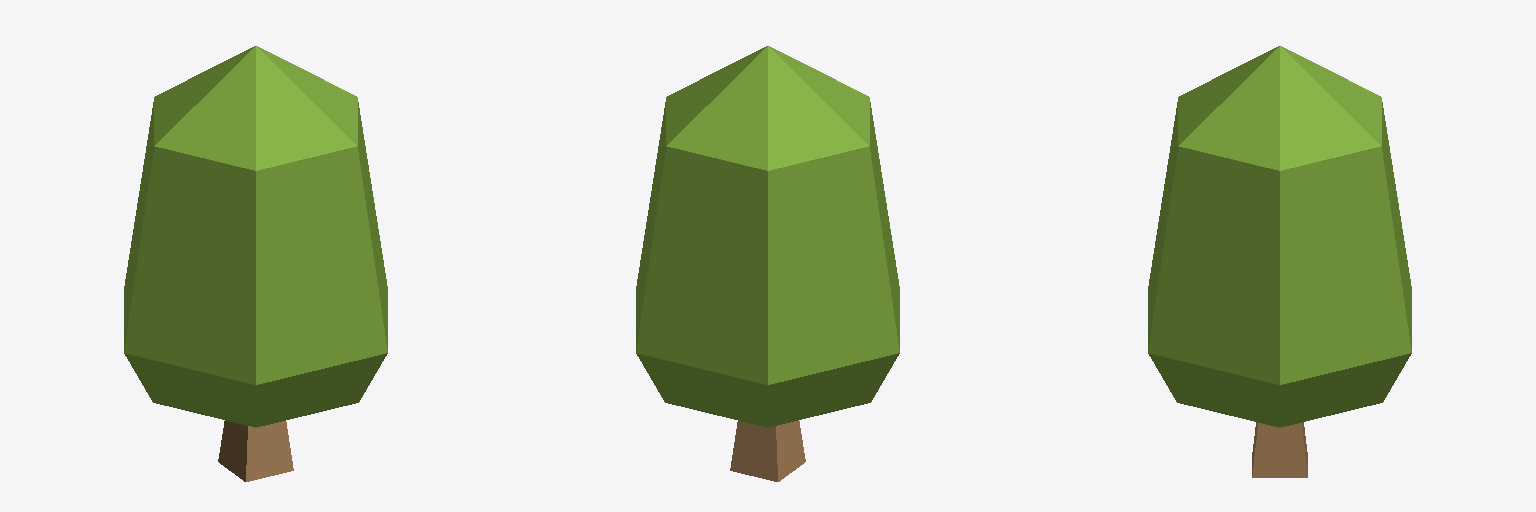
3 views of the same model, side by side, from view 1: azimuth 30°, elevation 25°; view 2: azimuth 150°, elevation 25°; view 3: azimuth 270°, elevation 25° (orthographic).
Parts seen in each view (by area): view 1: roadTile_020.001; view 2: roadTile_020.001; view 3: roadTile_020.001.
Boxes of the visible parts, <box> form: roadTile_020.001: <box>124,46,387,481</box>; roadTile_020.001: <box>636,46,899,481</box>; roadTile_020.001: <box>1148,46,1411,477</box>.
Size of the model in its own units: 1.72 by 2.62 by 1.49.